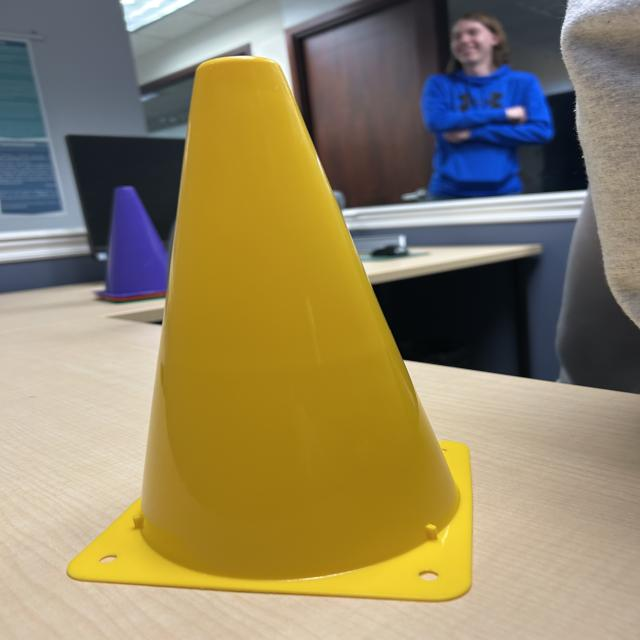yellow cone: (66, 53, 488, 602)
